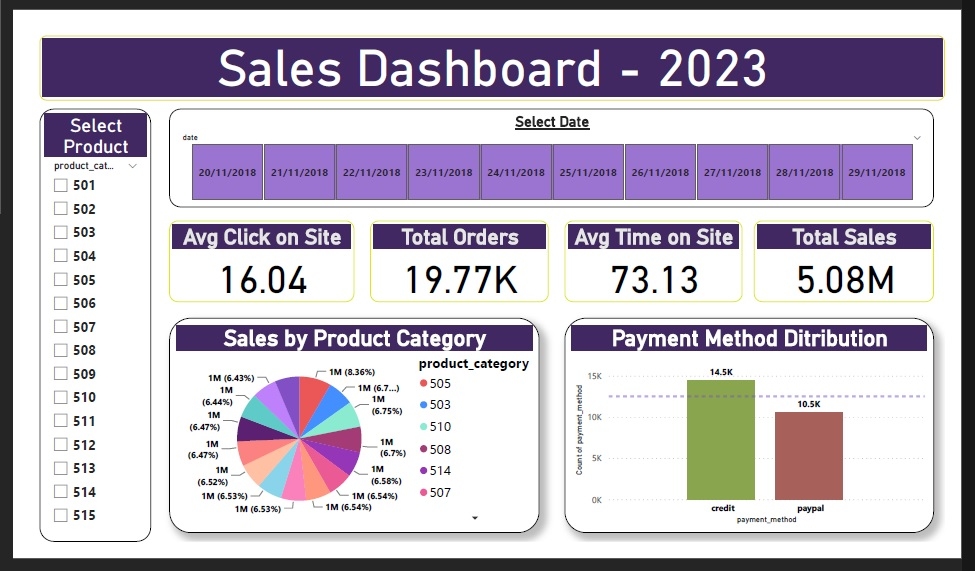

What the dashboard file says about the page in this screenshot:
{"tool":"powerbi","page":{"name":"Page 1","canvas":[1280,720],"ordinal":0},"visuals":[{"type":"card","title":"Avg Click on Site","fields":{"Values":["Avg(purchase_data_exe.clicks_in_site)"]},"box":[194.9,270.4,258.7,114.2],"z":0},{"type":"card","title":"Total Orders ","fields":{"Values":["Count(purchase_data_exe.customer_id)"]},"box":[475.4,270.4,250.3,114.2],"z":1000},{"type":"card","title":"Total Sales","fields":{"Values":["Sum(purchase_data_exe.value [USD])"]},"box":[1012.9,270.4,252,114.2],"z":2000},{"type":"card","title":"Avg Time on Site","fields":{"Values":["Avg(purchase_data_exe.time_on_site [Minutes])"]},"box":[747.5,270.4,248.6,114.2],"z":3000},{"type":"clusteredColumnChart","title":"Payment Method Ditribution","fields":{"Category":["purchase_data_exe.payment_method"],"Y":["CountNonNull(purchase_data_exe.payment_method)"]},"box":[747.8,406.8,516.6,301.5],"z":4000},{"type":"pieChart","title":"Sales by Product Category","fields":{"Category":["purchase_data_exe.product_category"],"Y":["Sum(purchase_data_exe.product_category)"]},"box":[194.6,406.8,518,301.5],"z":5000},{"type":"slicer","title":"Select Product ","fields":{"Values":["purchase_data_exe.product_category"]},"box":[13.4,114.2,156.2,606.4],"z":6000},{"type":"textbox","title":"Sales Dashboard - 2023","box":[13.4,11.8,1266.6,90.7],"z":6001},{"type":"slicer","title":"Select Date","fields":{"Values":["purchase_data_exe.date"]},"box":[194.9,114.2,1070,137.7],"z":6002}]}

Visuals, with their boxes on the page's 1280x720 design canvas (x1, y1, x2, y2). These are canvas units, not pixel positions in the 975x571 screenshot, which may show the page scaled, cropped or inside an application window:
"Avg Click on Site" card: 195:270:454:385
"Total Orders " card: 475:270:726:385
"Total Sales" card: 1013:270:1265:385
"Avg Time on Site" card: 748:270:996:385
"Payment Method Ditribution" clusteredColumnChart: 748:407:1264:708
"Sales by Product Category" pieChart: 195:407:713:708
"Select Product " slicer: 13:114:170:721
"Sales Dashboard - 2023" textbox: 13:12:1280:102
"Select Date" slicer: 195:114:1265:252
